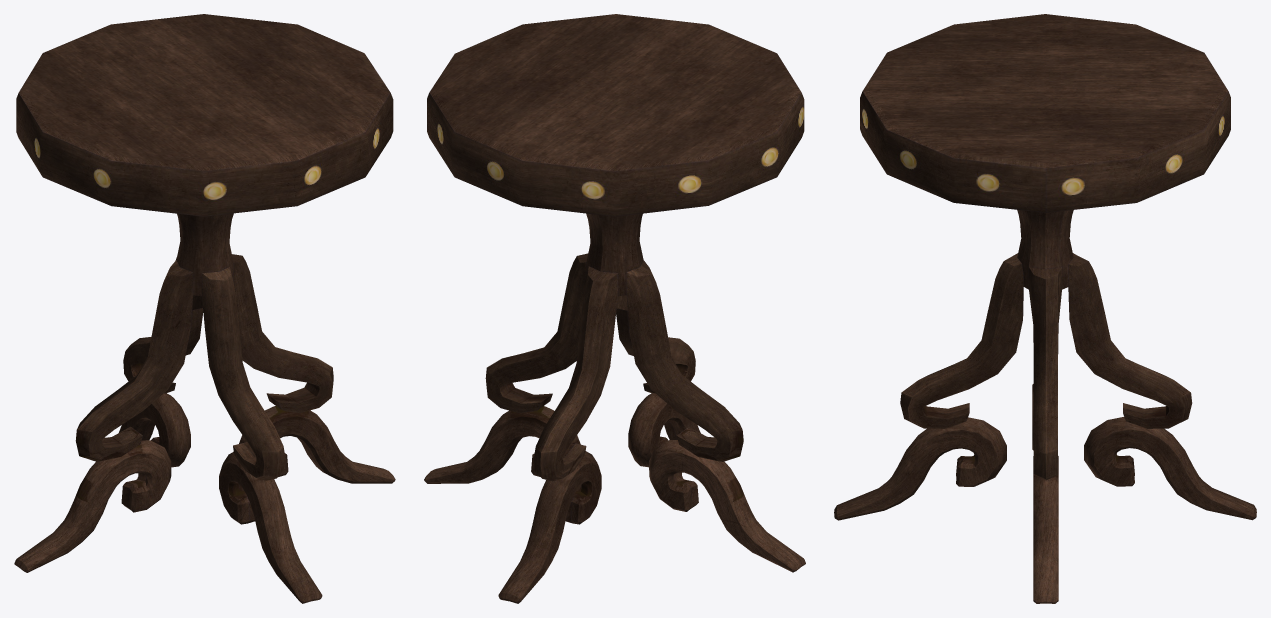
Rendered from EndTable_Variation_1.FBX.
3 views of the same model, side by side, from view 1: azimuth 30°, elevation 25°; view 2: azimuth 150°, elevation 25°; view 3: azimuth 270°, elevation 25° (orthographic).
Visible parts, largest first — view 1: Variation_1; view 2: Variation_1; view 3: Variation_1.
Boxes of the visible parts, left/top/right/bottom form: Variation_1: left=14, top=14, right=395, bottom=603; Variation_1: left=424, top=14, right=805, bottom=603; Variation_1: left=834, top=14, right=1256, bottom=603.
Bounding box in the file's own units: 418 × 466 × 418.
1 material, 1 textured.
